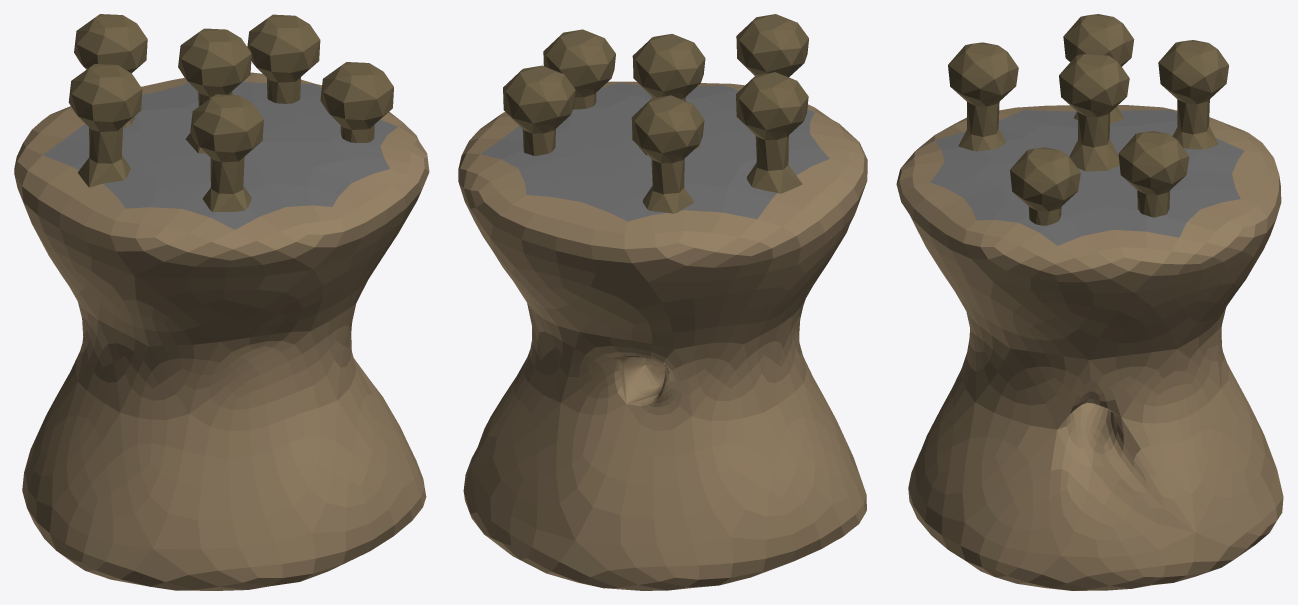
The model's file is ErrodedForest2.fbx.
3 renders of one model, left to right at view 1: azimuth 30°, elevation 25°; view 2: azimuth 150°, elevation 25°; view 3: azimuth 270°, elevation 25°, orthographic. The views are drawn at different scales.
Visible parts, largest first — view 1: Cylinder.001, Cylinder.002, Cylinder.006, Cylinder.005, Cylinder.004, Cylinder.007, Cylinder.003; view 2: Cylinder.001, Cylinder.002, Cylinder.003, Cylinder.005, Cylinder.007, Cylinder.004, Cylinder.006; view 3: Cylinder.001, Cylinder.007, Cylinder.003, Cylinder.006, Cylinder.005, Cylinder.004, Cylinder.002.
Part boxes in pixels (box(x1,y1,x2,y2)): Cylinder.001: box(14, 72, 429, 590); Cylinder.002: box(68, 64, 142, 187); Cylinder.006: box(190, 94, 263, 211); Cylinder.005: box(247, 14, 320, 103); Cylinder.004: box(320, 62, 393, 142); Cylinder.007: box(178, 28, 251, 153); Cylinder.003: box(74, 14, 147, 127); Cylinder.001: box(458, 81, 867, 590); Cylinder.002: box(736, 72, 808, 193); Cylinder.003: box(631, 95, 704, 213); Cylinder.005: box(503, 65, 575, 155); Cylinder.007: box(632, 34, 705, 155); Cylinder.004: box(543, 29, 615, 109); Cylinder.006: box(736, 14, 808, 77); Cylinder.001: box(896, 105, 1283, 590); Cylinder.007: box(1059, 53, 1129, 171); Cylinder.003: box(1158, 40, 1228, 149); Cylinder.006: box(948, 42, 1018, 151); Cylinder.005: box(1118, 131, 1189, 217); Cylinder.004: box(1010, 147, 1080, 225); Cylinder.002: box(1063, 14, 1134, 123).
Bounding box in the file's own units: 2524 × 3367 × 2523.
